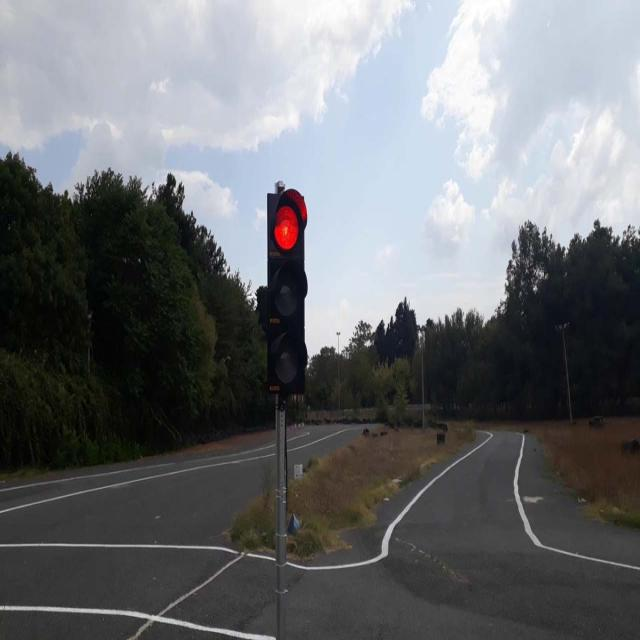kirmizi: (268, 188, 308, 392)
